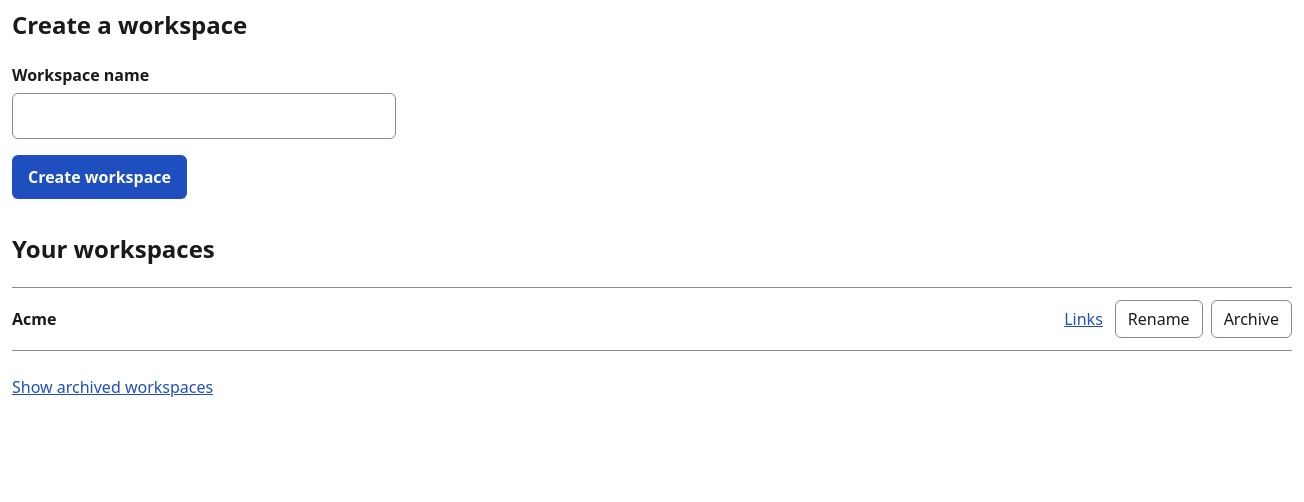
Scenario: workspace list: create validation › a validation_failed with no name detail shows one form-level alert
Type "Acme Two" into the field labelled "Workspace name". click: (204, 116)
box: x1=12 y1=93 x2=396 y2=139
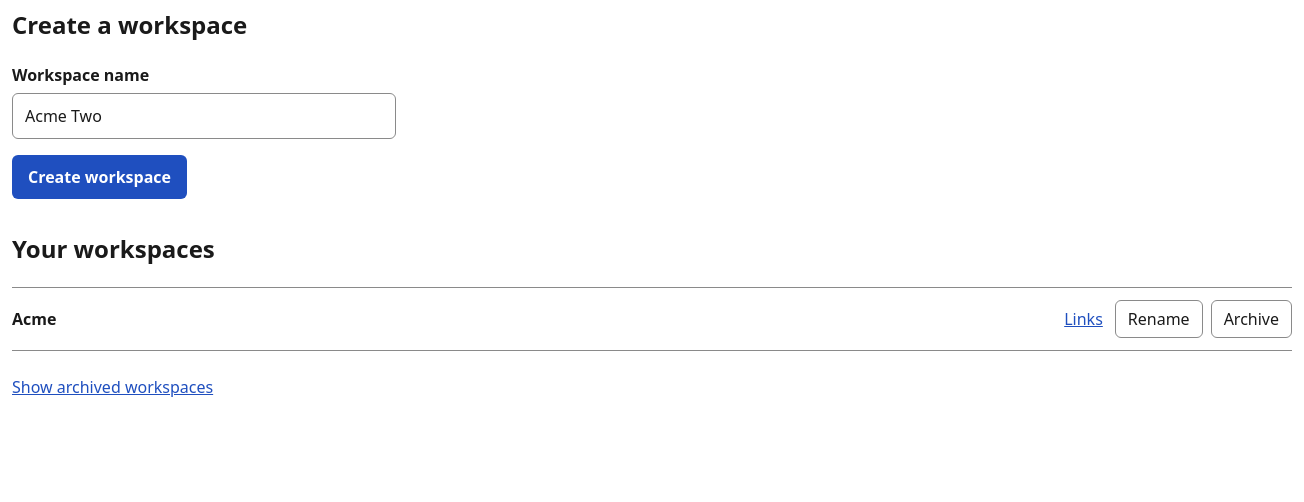
Click the button "Create workspace". click: (100, 177)
box: x1=12 y1=155 x2=187 y2=199
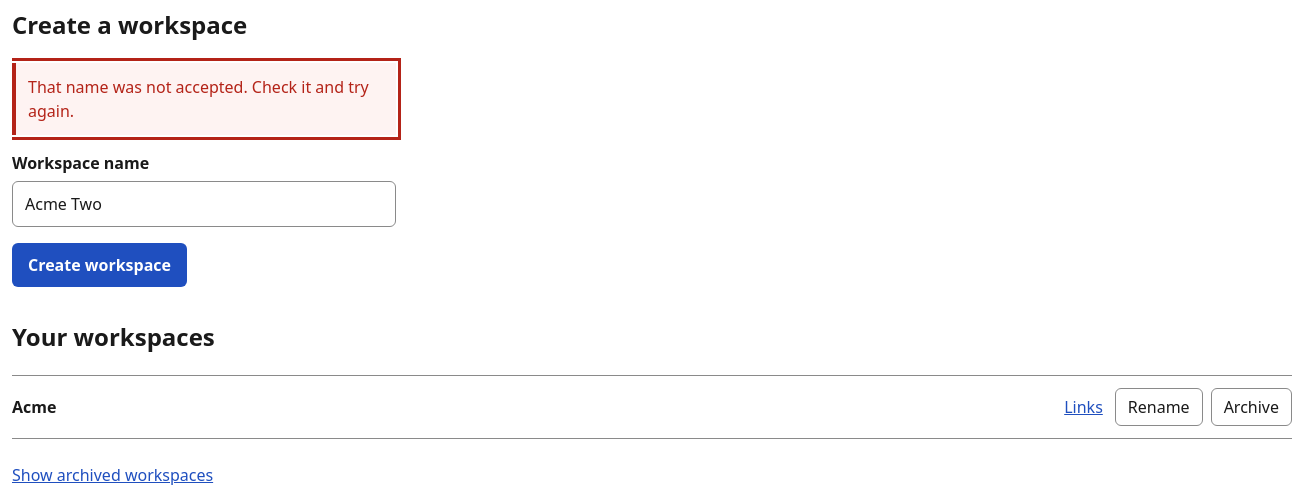
Expected: the message "That name was not accepted. Check it and try again." is shown, x1=12 y1=63 x2=396 y2=135
